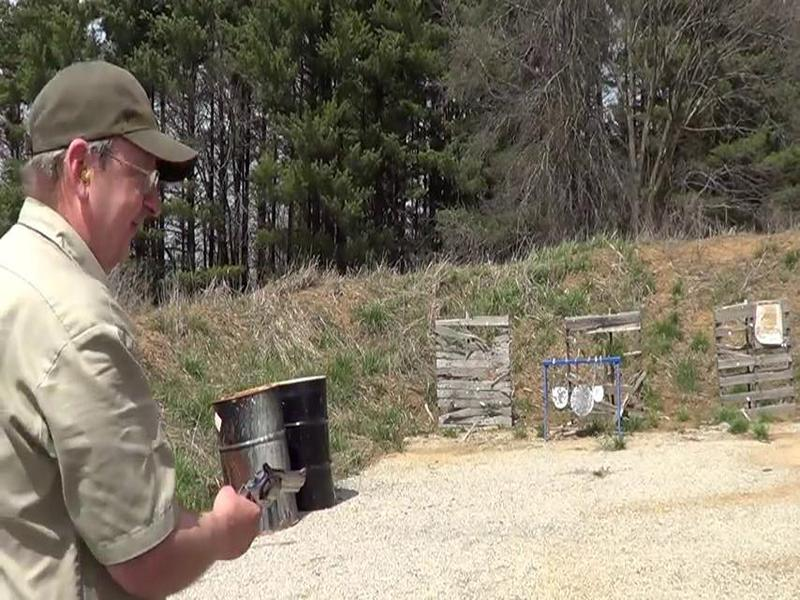Revolver: (205, 455, 327, 537)
